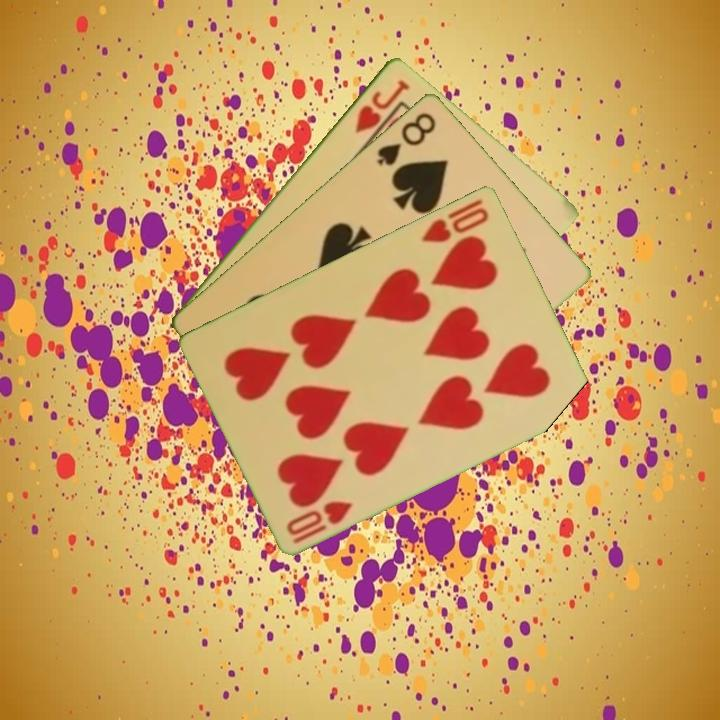10h: (418, 194, 492, 245), (283, 496, 356, 546)
8s: (373, 108, 439, 169)
Jh: (351, 75, 412, 136)
